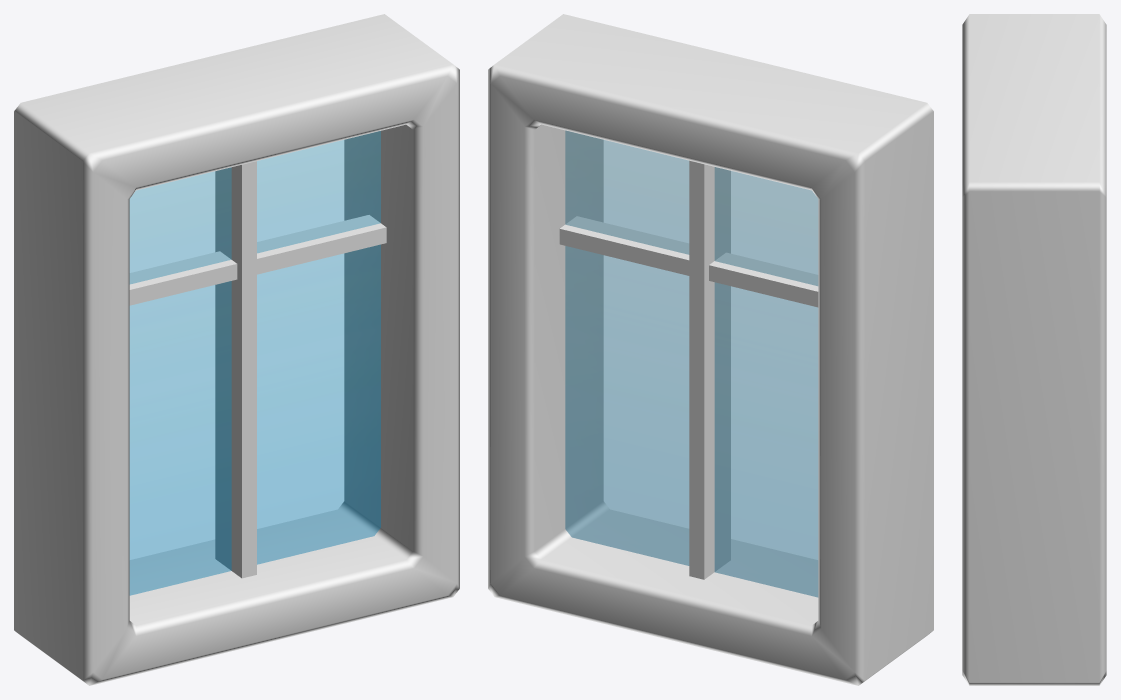
Rendered from Window_White_12.glb.
3 views of the same model, side by side, from view 1: azimuth 30°, elevation 25°; view 2: azimuth 150°, elevation 25°; view 3: azimuth 270°, elevation 25° (orthographic). The views are drawn at different scales.
Parts seen in each view (by area): view 1: Window_White_12; view 2: Window_White_12; view 3: Window_White_12.
Part boxes in pixels (bbox=[...]): Window_White_12: bbox=[14, 14, 459, 685]; Window_White_12: bbox=[488, 14, 933, 685]; Window_White_12: bbox=[962, 14, 1106, 685].
Bounding box in the file's own units: 1.14 × 1.54 × 0.4.
2 materials, 2 textured.
